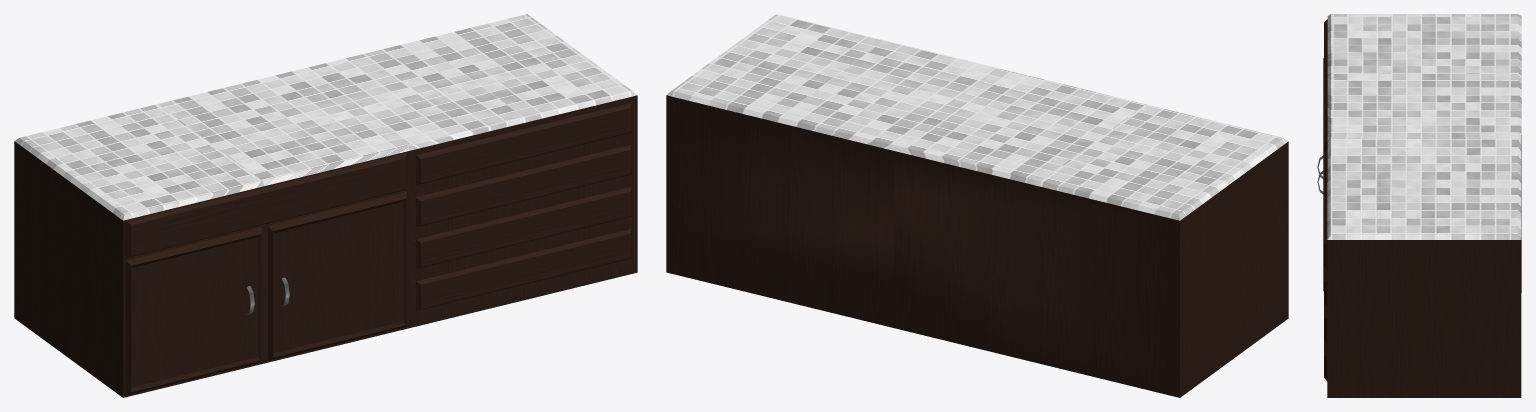
File: Open_Kitchencounter_C_5.FBX
The picture shows the model from 3 angles, left to right: view 1: azimuth 30°, elevation 25°; view 2: azimuth 150°, elevation 25°; view 3: azimuth 270°, elevation 25°; orthographic projection. The views are drawn at different scales.
Visible parts, largest first — view 1: Open_Counter_A001, Door_ R_005, Door_ R_004, Drawer001, Drawer_B002, Drawer_A002, Drawer_C001, Drawer_D001; view 2: Open_Counter_A001; view 3: Open_Counter_A001, Drawer001, Drawer_A002, Door_ R_005.
Boxes of the visible parts, <box> form: Open_Counter_A001: <box>14,14,637,397</box>; Door_ R_005: <box>268,192,406,360</box>; Door_ R_004: <box>125,227,261,395</box>; Drawer001: <box>125,153,407,258</box>; Drawer_B002: <box>416,144,631,227</box>; Drawer_A002: <box>416,102,631,185</box>; Drawer_C001: <box>416,186,631,268</box>; Drawer_D001: <box>416,228,631,310</box>; Open_Counter_A001: <box>666,14,1288,397</box>; Open_Counter_A001: <box>1327,14,1521,397</box>; Drawer001: <box>1324,19,1327,152</box>; Drawer_A002: <box>1324,149,1327,268</box>; Door_ R_005: <box>1317,120,1323,290</box>.
Size of the model in its own units: 410 by 138 by 158.
